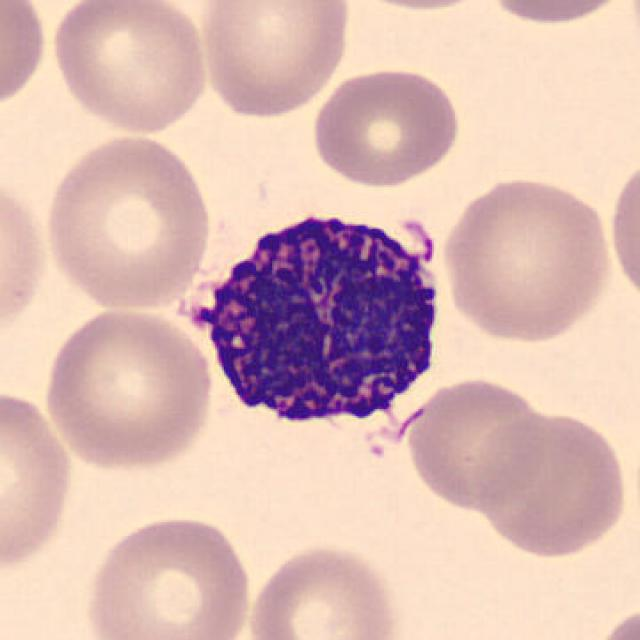Basophil: (174, 190, 460, 455)
RBC: (39, 129, 217, 314), (435, 171, 617, 346), (37, 304, 219, 474), (471, 407, 631, 561), (80, 509, 256, 640), (46, 0, 212, 136), (400, 374, 553, 515), (308, 62, 464, 190), (194, 0, 356, 122), (241, 537, 405, 640), (0, 381, 78, 580), (0, 168, 50, 352), (0, 0, 50, 116), (604, 152, 640, 310), (480, 0, 635, 28), (336, 0, 496, 14), (588, 599, 638, 640)
